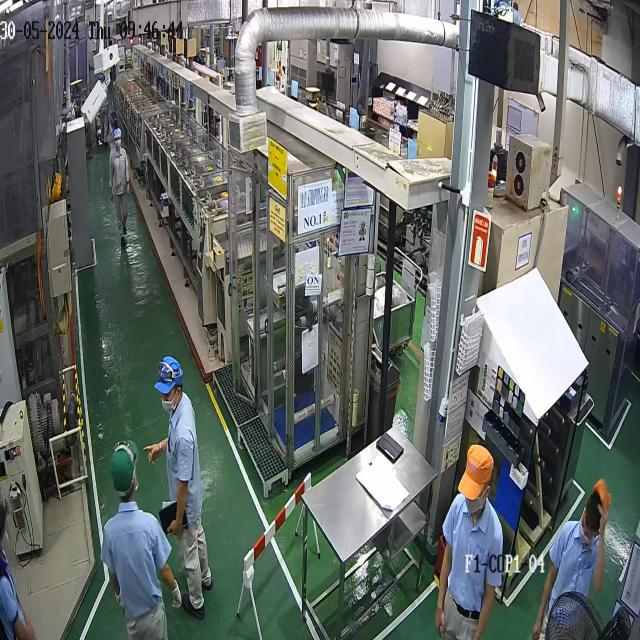Person: (142, 355, 213, 620), (100, 440, 182, 639), (434, 443, 504, 640), (532, 480, 610, 640), (0, 505, 37, 639), (108, 127, 130, 248)
